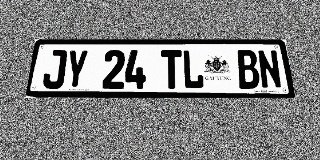2: (102, 50, 125, 89)
4: (124, 50, 146, 89)
B: (236, 50, 261, 89)
J: (42, 50, 68, 89)
L: (182, 50, 204, 89)
N: (257, 50, 283, 89)
T: (161, 50, 182, 89)
Y: (64, 50, 89, 89)
